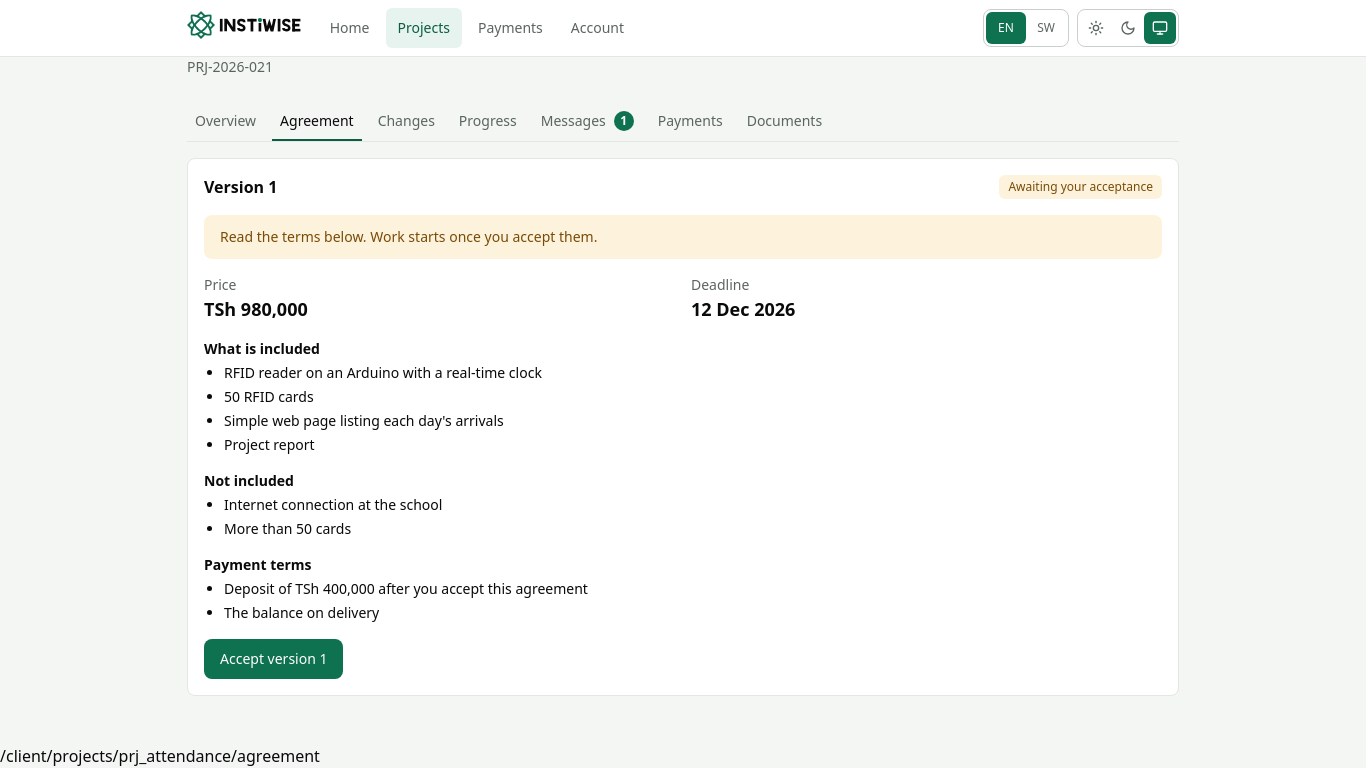
Test: project detail › lets the client accept an agreement after confirming
(page scrolled)
What coordinates should you click on to do the following:
click the button "Accept version 1"
I would click on:
 (274, 659)
Its box is [204,639,344,679].
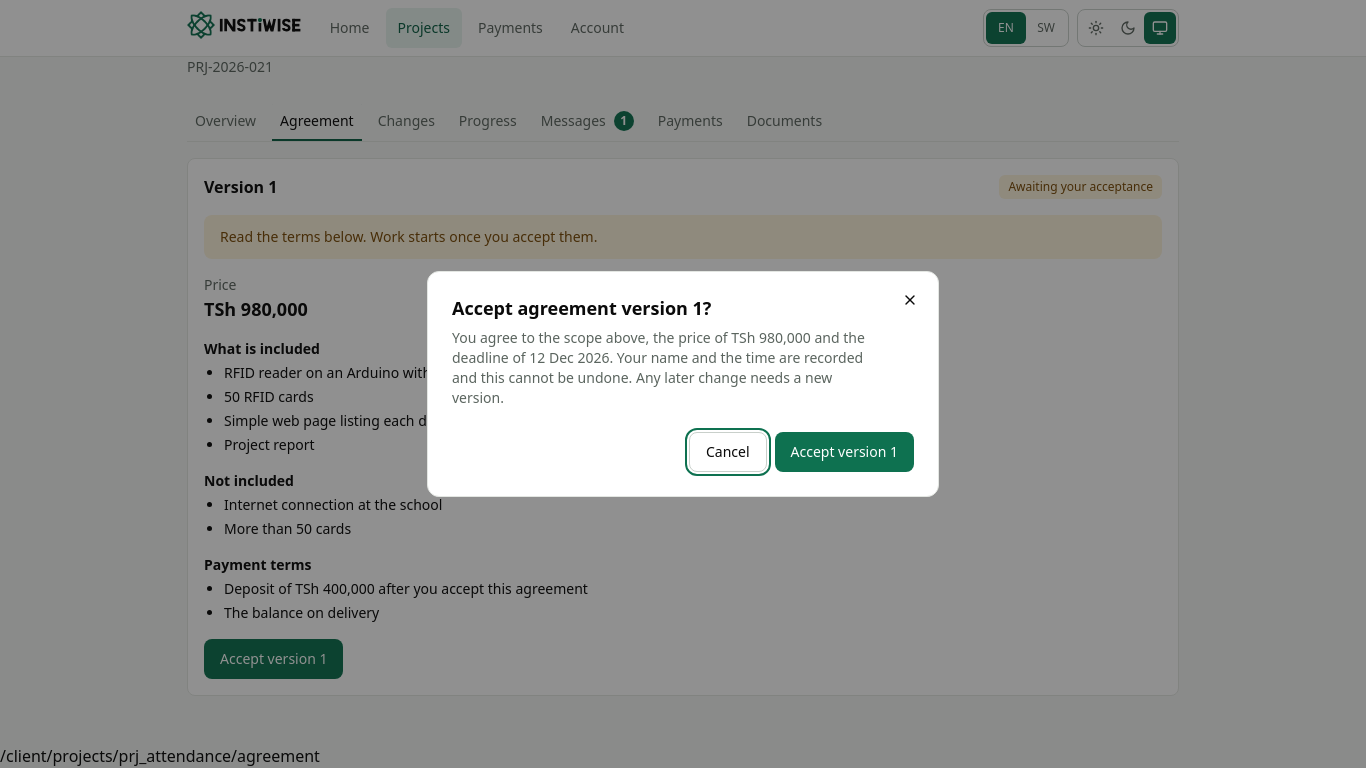
What coordinates should you click on to do the following:
click the button "Accept version 1"
I would click on:
 (844, 452)
Its box is [774,432,914,472].
(page scrolled)
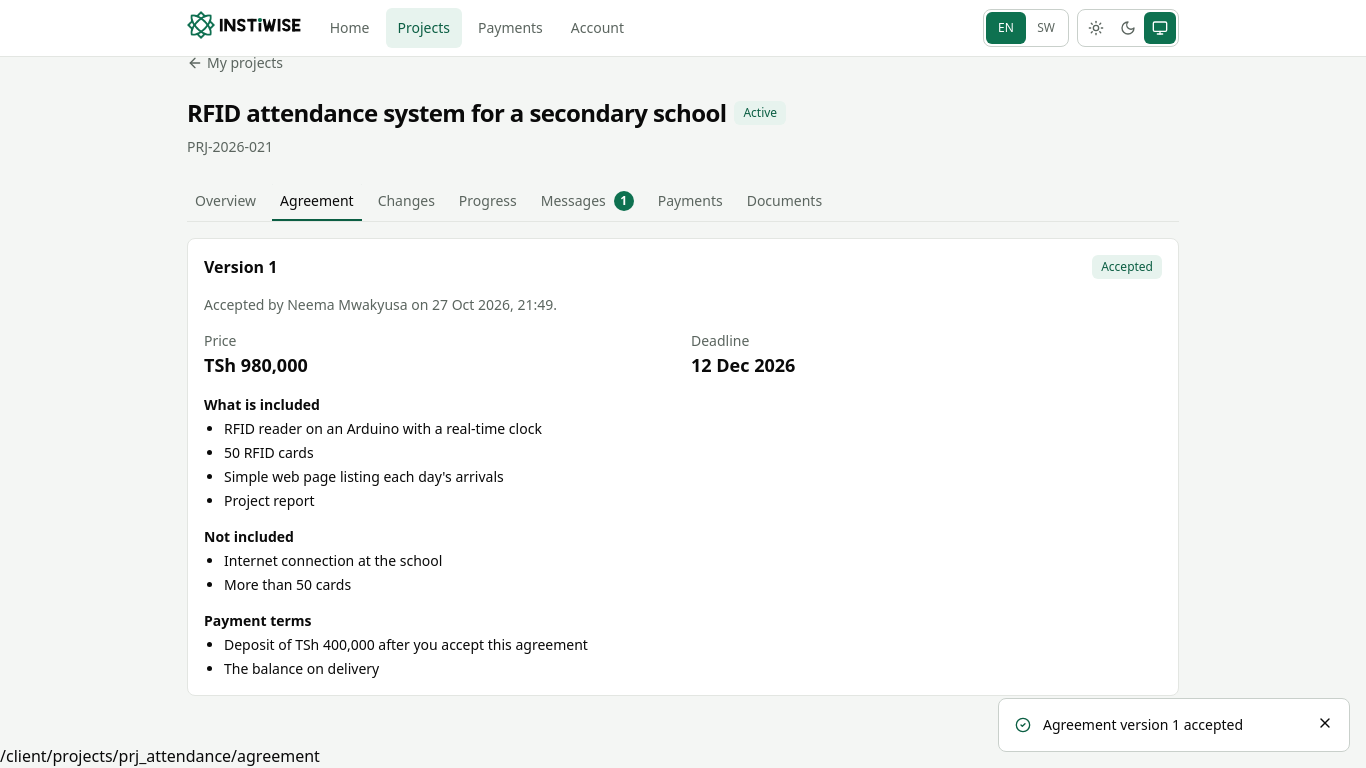
Expected: the text "Agreement version 1 accepted" is shown, [1043,715,1243,734]
Expected: the text "Accepted by Neema Mwakyusa on 27 Oct 2026, 21:49." is shown, [204,295,557,314]
Expected: the text "Active" is shown, [734,101,786,125]
